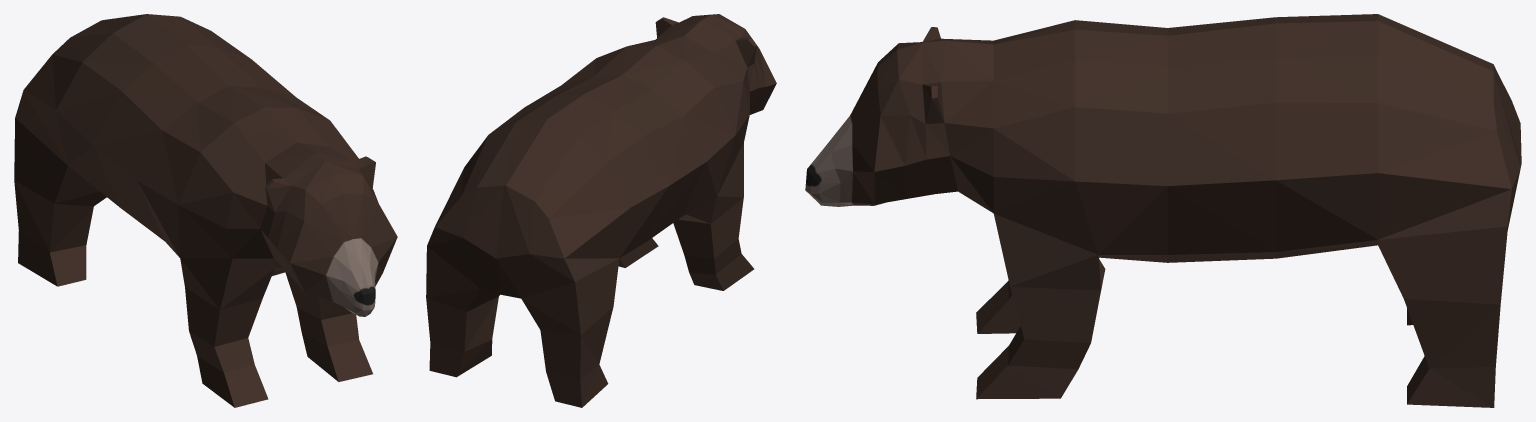
Rendered from grizzly.fbx.
3 views of the same model, side by side, from view 1: azimuth 30°, elevation 25°; view 2: azimuth 150°, elevation 25°; view 3: azimuth 270°, elevation 25° (orthographic). The views are drawn at different scales.
Parts seen in each view (by area): view 1: grizzly; view 2: grizzly; view 3: grizzly.
Boxes of the visible parts, box(x1,y1,x2,y2) form: grizzly: box(14, 14, 397, 407); grizzly: box(426, 14, 776, 407); grizzly: box(805, 14, 1521, 407).
Size of the model in its own units: 78.37 by 105 by 203.
